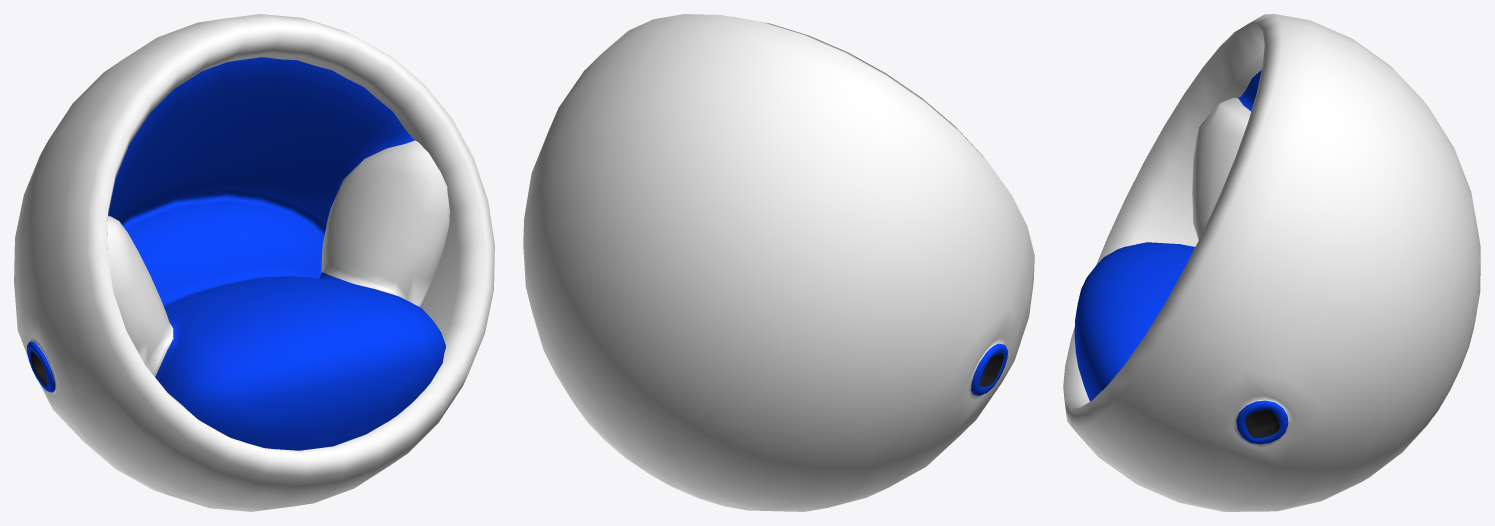
File: LoungePodChair.fbx
3 views of the same model, side by side, from view 1: azimuth 30°, elevation 25°; view 2: azimuth 150°, elevation 25°; view 3: azimuth 270°, elevation 25° (orthographic). The views are drawn at different scales.
Visible parts, largest first — view 1: LoungePodChair; view 2: LoungePodChair; view 3: LoungePodChair.
Boxes of the visible parts, <box> form: LoungePodChair: <box>14,14,494,511</box>; LoungePodChair: <box>523,14,1034,511</box>; LoungePodChair: <box>1063,14,1480,511</box>.
Size of the model in its own units: 60 by 60 by 50.
Materials: 1 (1 with a texture image).
